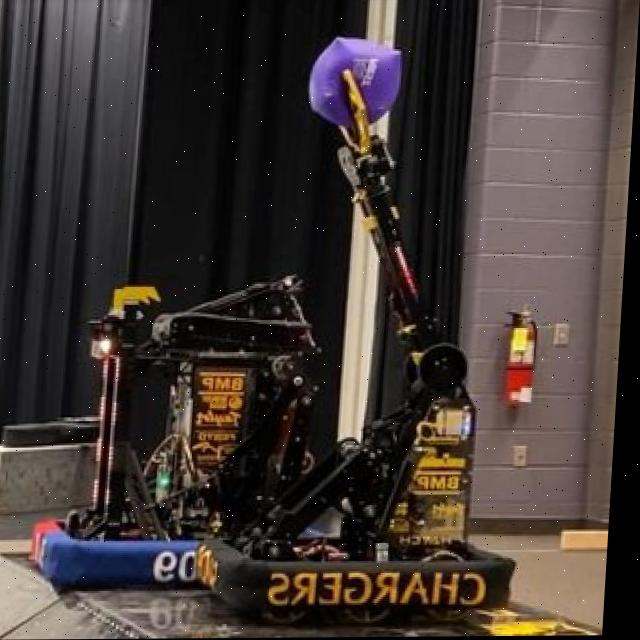robot: (191, 30, 577, 633), (9, 262, 329, 592)
